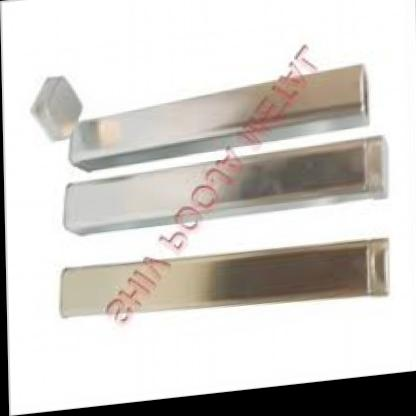Metal: (18, 0, 408, 356)
